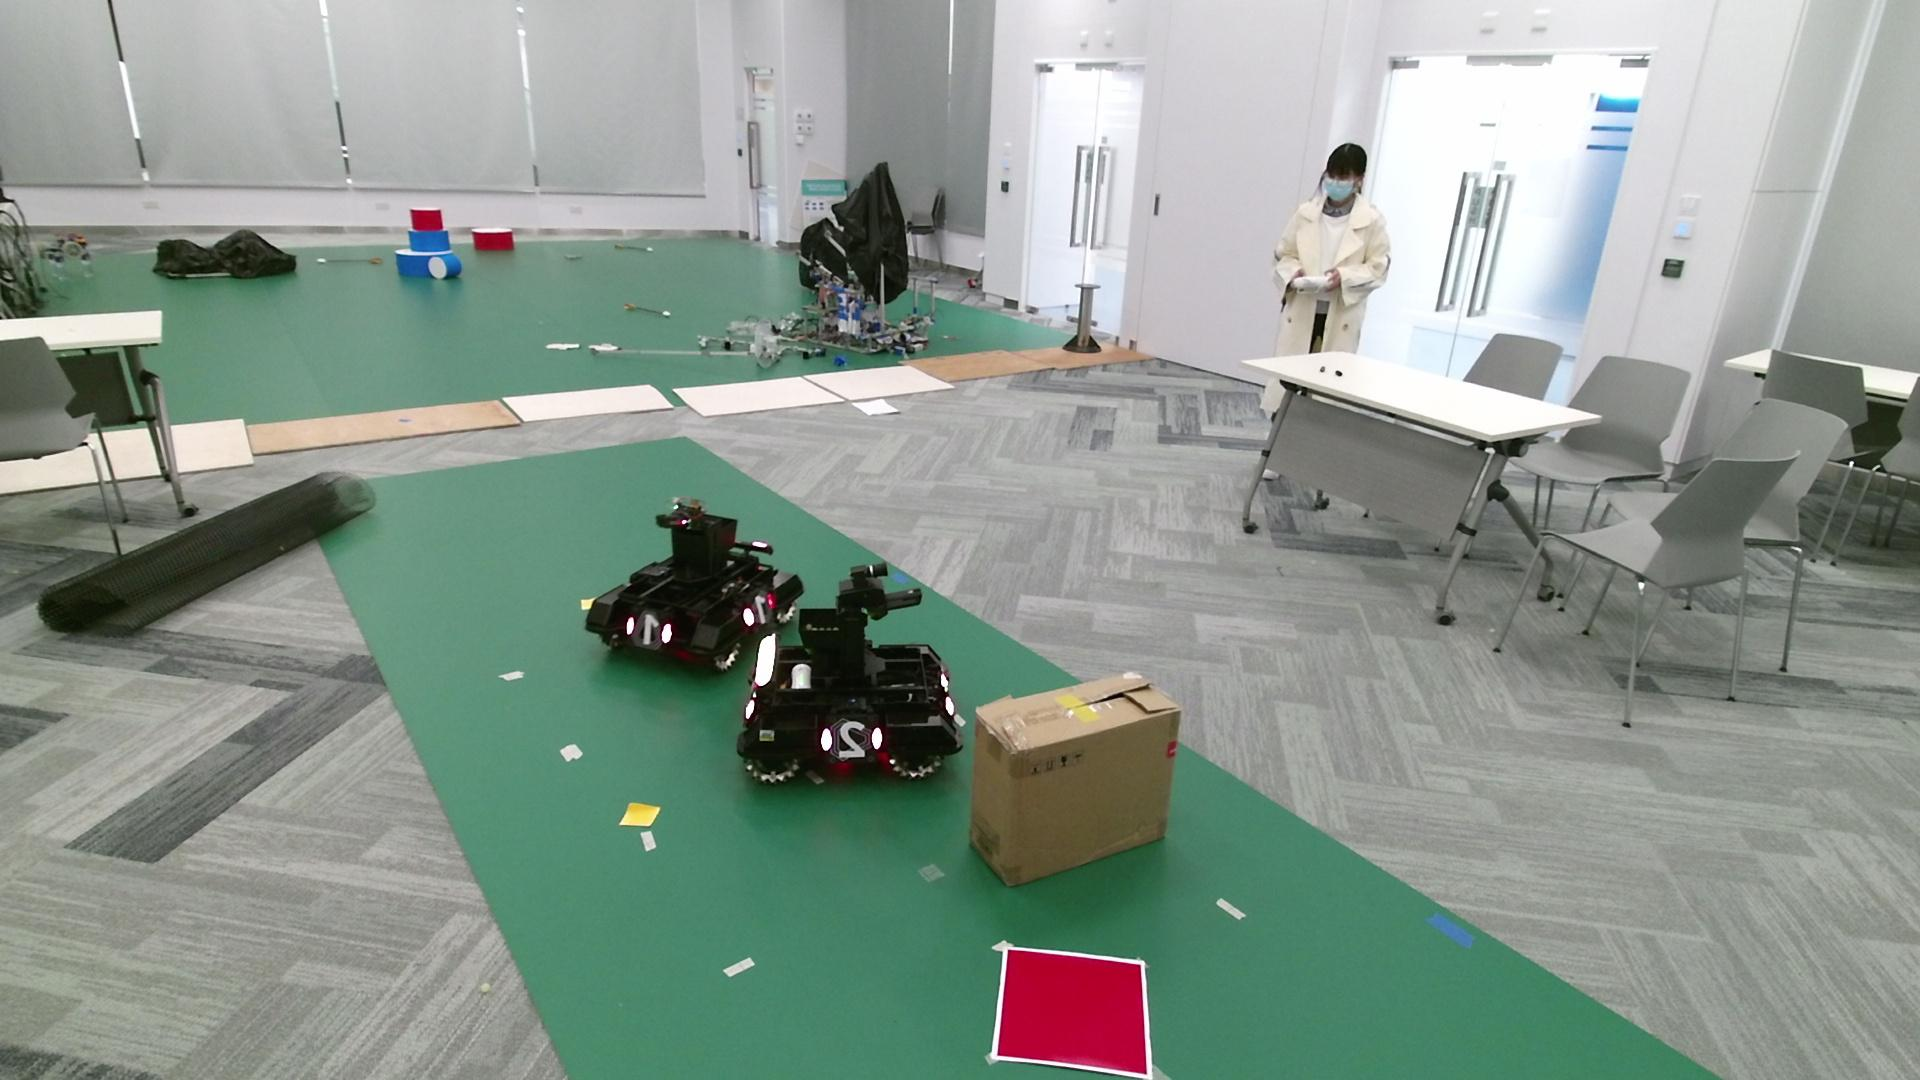robot: (735, 560, 967, 787), (583, 497, 806, 675)
